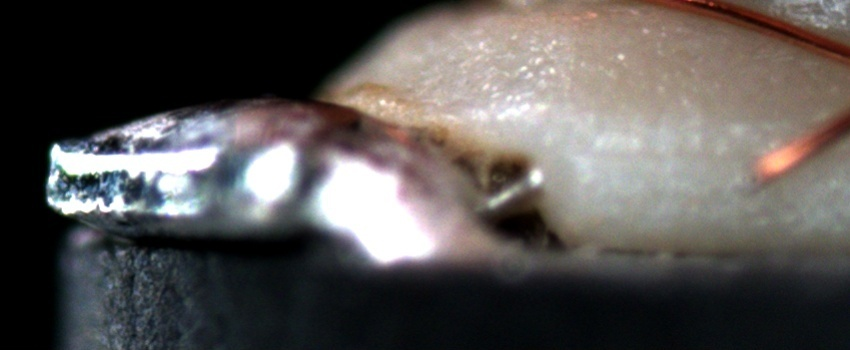DL: (595, 130, 849, 186)
